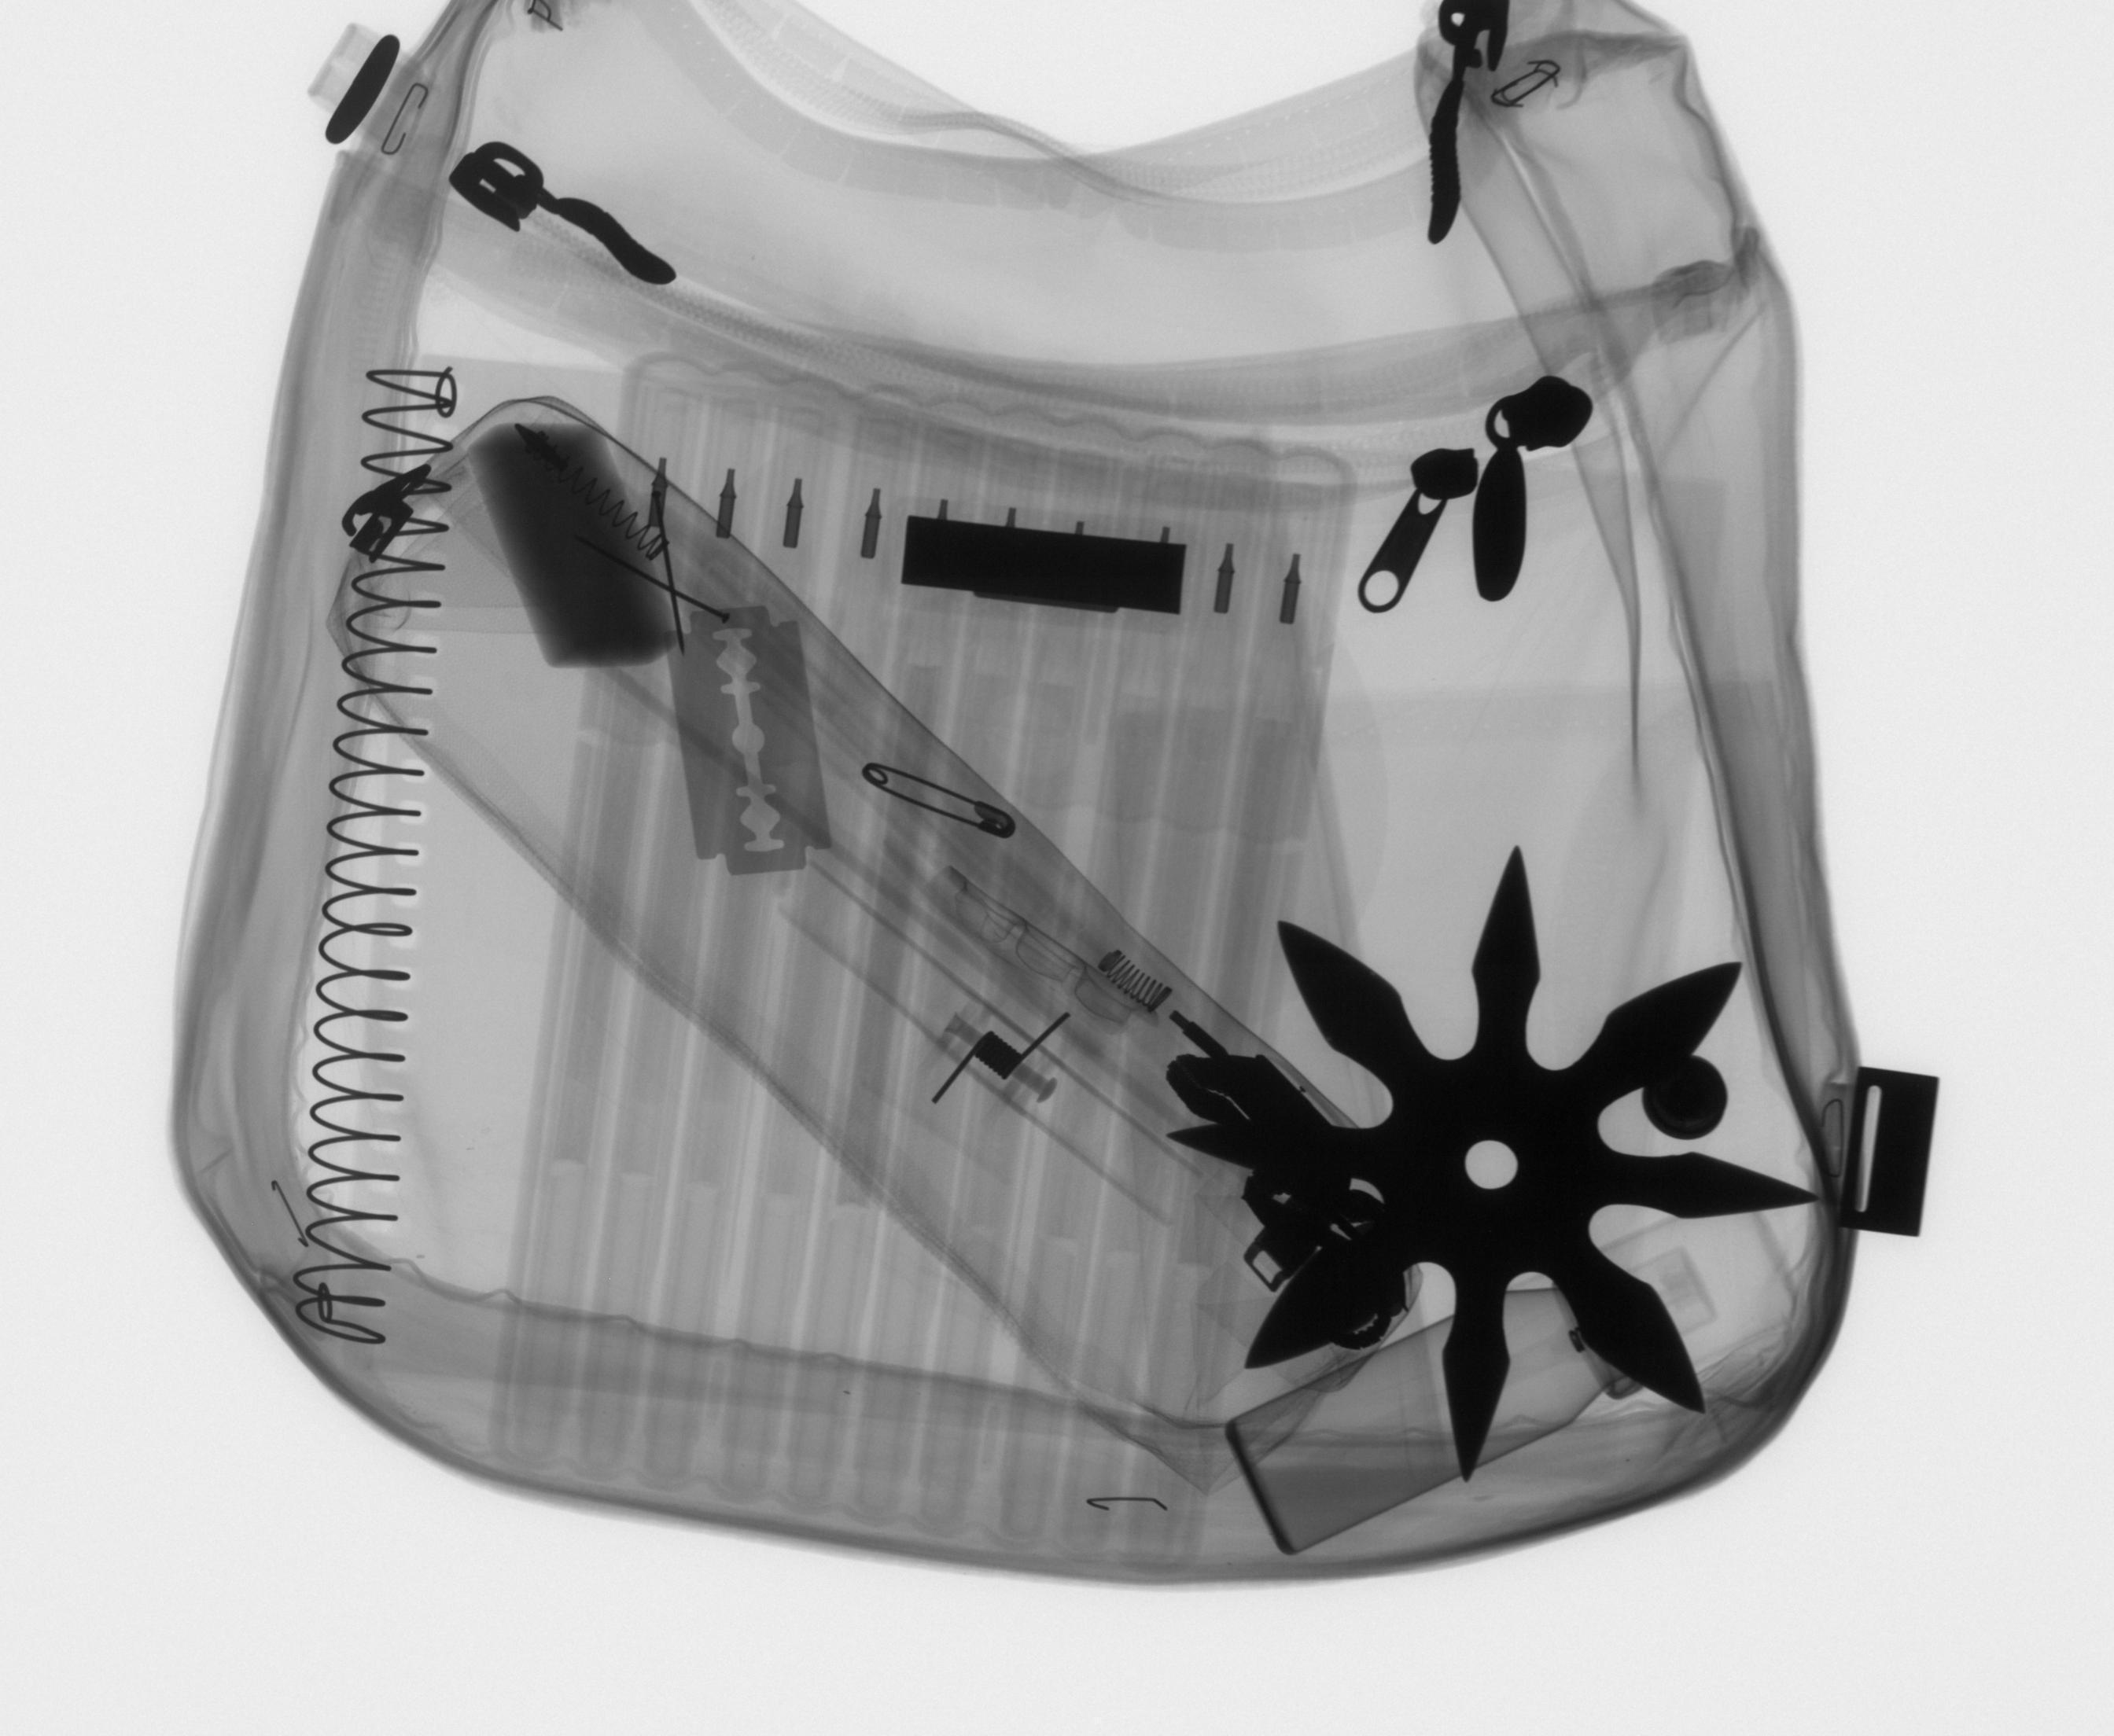RazorBlade: (655, 597, 843, 888)
Shuriken: (1157, 839, 1826, 1492)
